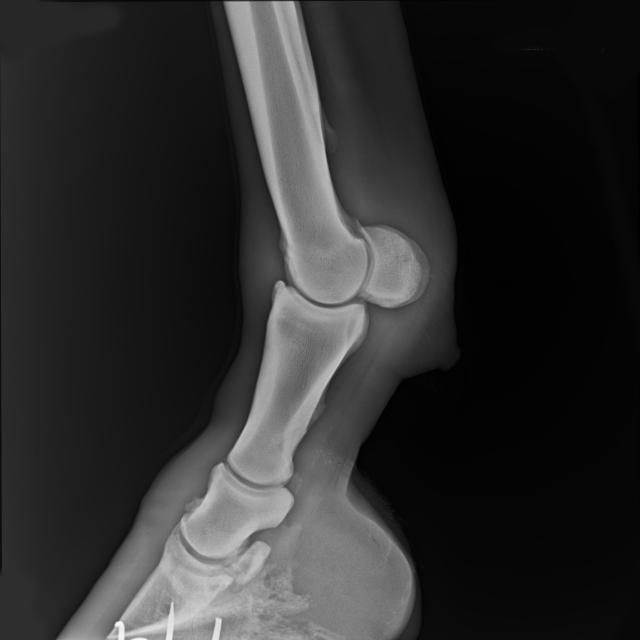joint-ht8A: (217, 151, 464, 384)
